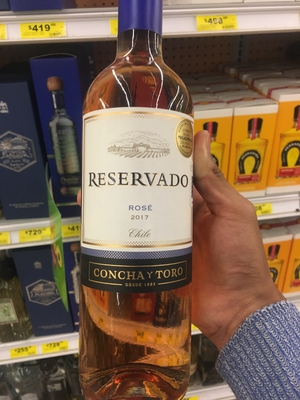reservado rose: (78, 17, 204, 378)
